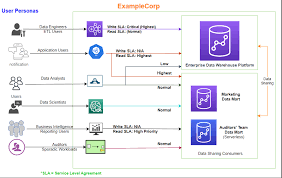bedrock: (88, 100, 103, 113)
emr: (87, 22, 102, 37)
redshift: (201, 21, 239, 60), (191, 86, 216, 111), (192, 120, 216, 145)
